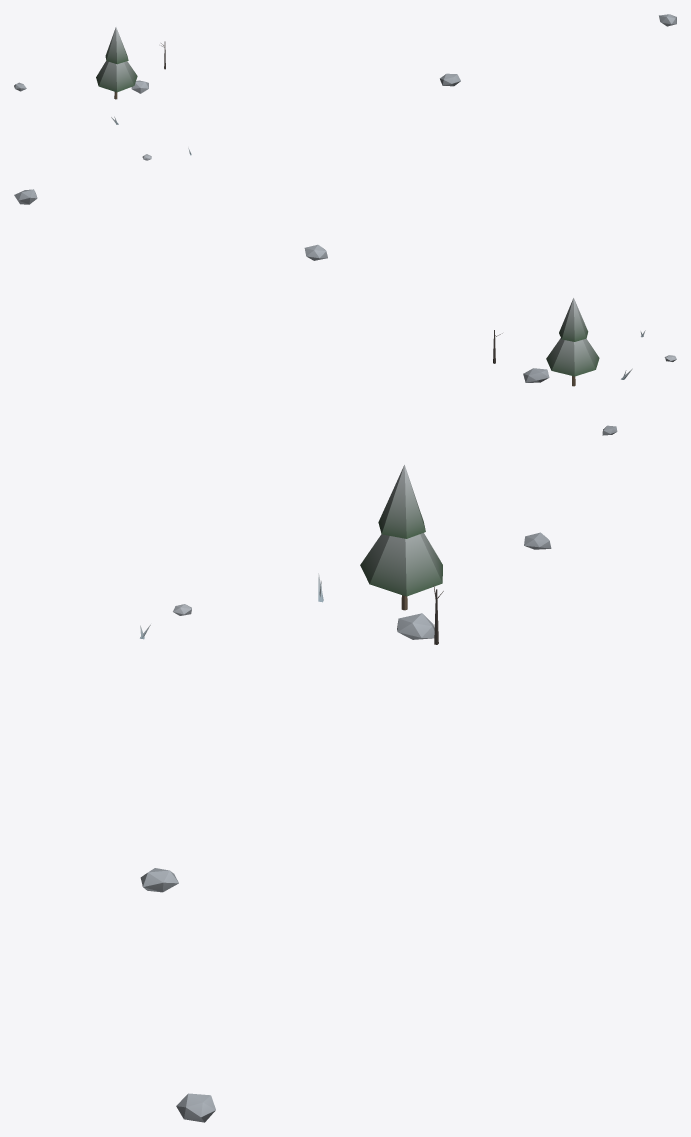
File: frost_land_scatter_c23_10_lod1.glb
The picture shows the model from 3 angles, top to bottom: view 1: azimuth 30°, elevation 25°; view 2: azimuth 150°, elevation 25°; view 3: azimuth 270°, elevation 25°; orthographic projection. The views are drawn at different scales.
Visible parts, largest first — view 1: frost_land_scatter_c23_10_lod1; view 2: frost_land_scatter_c23_10_lod1; view 3: frost_land_scatter_c23_10_lod1.
Part boxes in pixels (left/top/right/bottom): frost_land_scatter_c23_10_lod1: left=14, top=14, right=676, bottom=160; frost_land_scatter_c23_10_lod1: left=14, top=189, right=676, bottom=435; frost_land_scatter_c23_10_lod1: left=140, top=465, right=551, bottom=1122.
Size of the model in its own units: 135 by 19.43 by 41.79.
